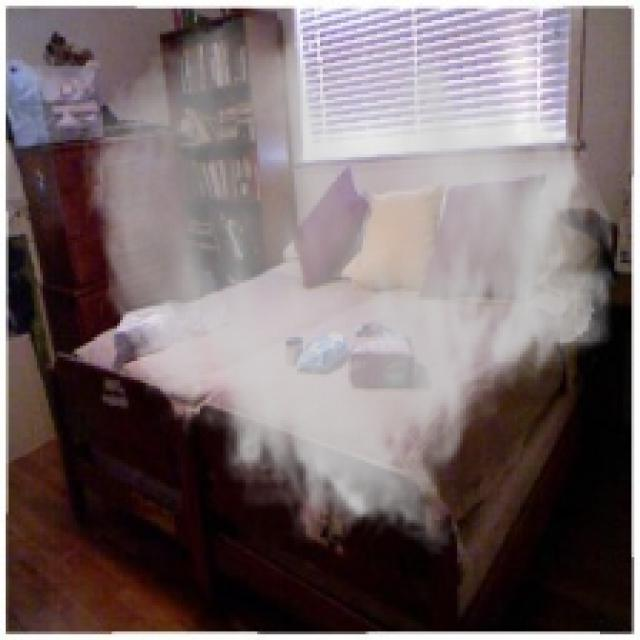smoke: (77, 12, 620, 557)
